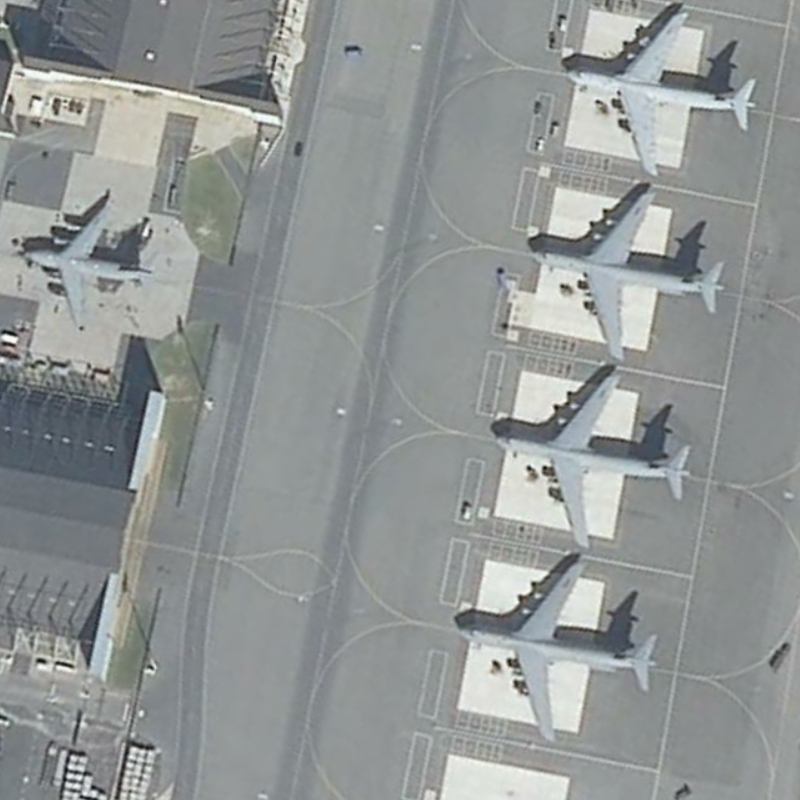A3: (13, 189, 159, 328)
A4: (446, 553, 662, 749), (521, 178, 736, 367), (485, 364, 697, 555), (559, 8, 765, 179)
